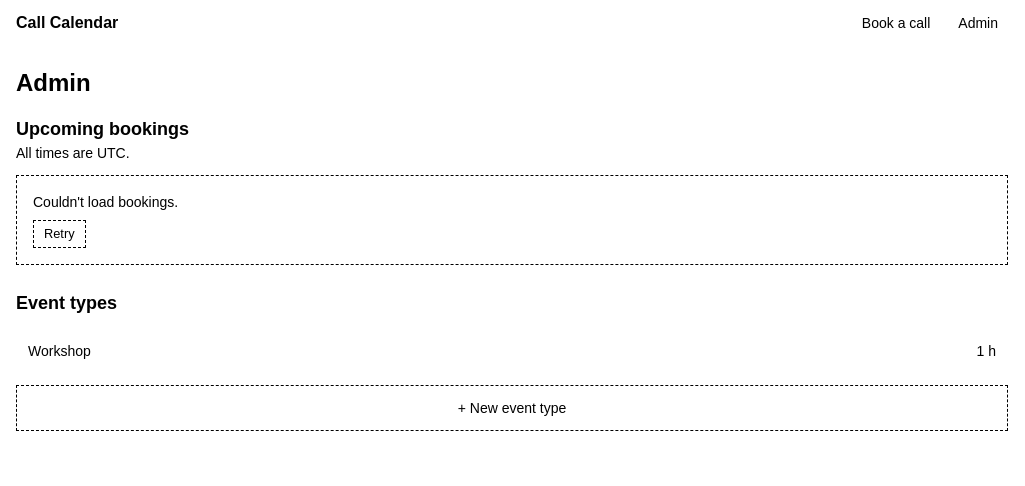
Test: admin upcoming bookings › shows an error with Retry when loading fails, and loads again on Retry
Expected: the message shows "Couldn't load bookings.", [33,194,178,210]
What coordinates should you click on to do the following:
click the button "Retry"
I would click on:
 (59, 234)
Its box is [33,220,86,248].
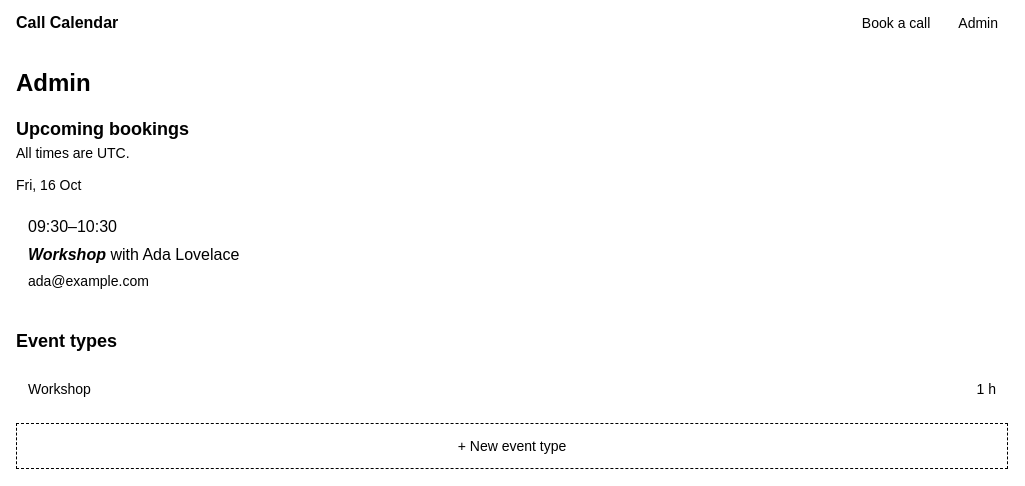
Expected: the text "Ada Lovelace" is shown, [142,246,239,263]
Expected: the message "Couldn't load bookings. Retry" is gone
